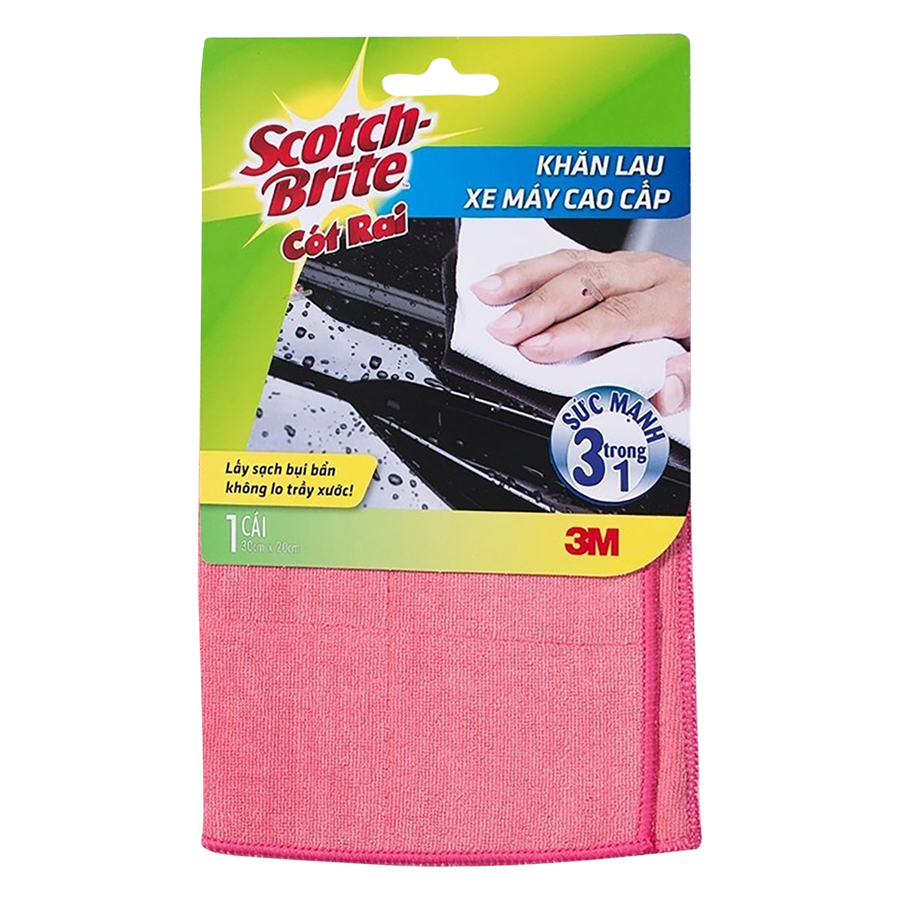3M: (559, 522, 628, 559)
